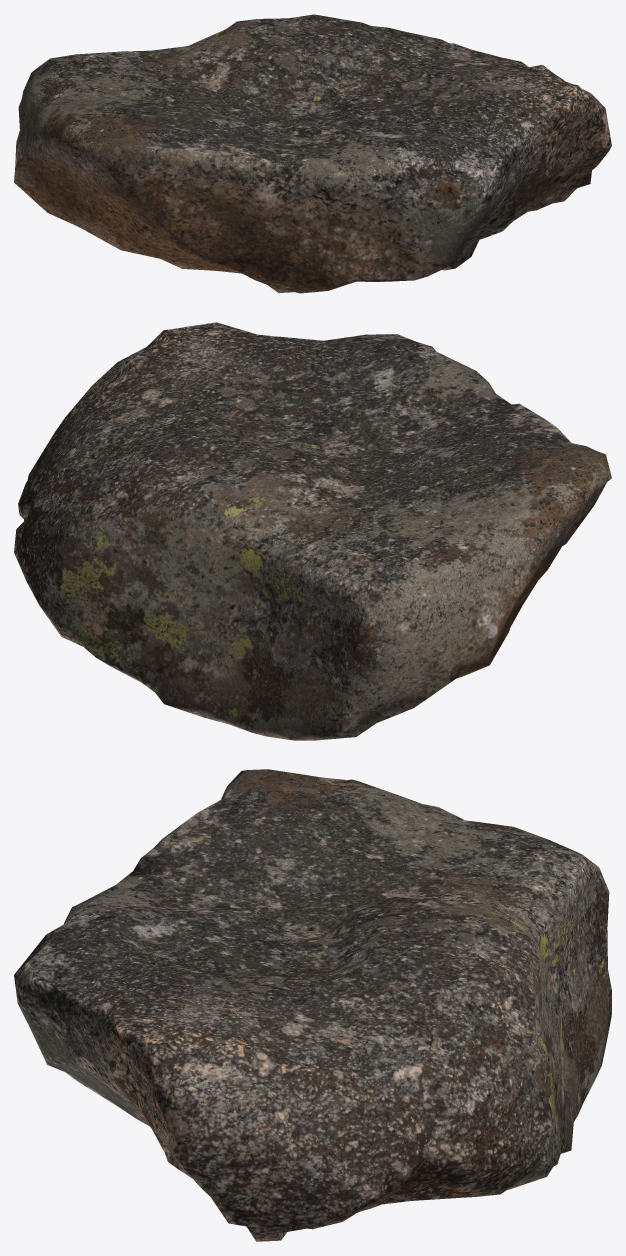
File: wgyvfdn_tier_2.gltf
The picture shows the model from 3 angles, top to bottom: view 1: azimuth 30°, elevation 25°; view 2: azimuth 150°, elevation 25°; view 3: azimuth 270°, elevation 25°; orthographic projection. The views are drawn at different scales.
Parts seen in each view (by area): view 1: wgyvfdn_LOD0_TIER2_000; view 2: wgyvfdn_LOD0_TIER2_000; view 3: wgyvfdn_LOD0_TIER2_000.
Part boxes in pixels (x1,y1,x2,y2): wgyvfdn_LOD0_TIER2_000: [14, 14, 611, 293]; wgyvfdn_LOD0_TIER2_000: [14, 322, 611, 740]; wgyvfdn_LOD0_TIER2_000: [14, 769, 611, 1241].
Size of the model in its own units: 0.2282 by 0.0875 by 0.1984.
Materials: 1 (1 with a texture image).
